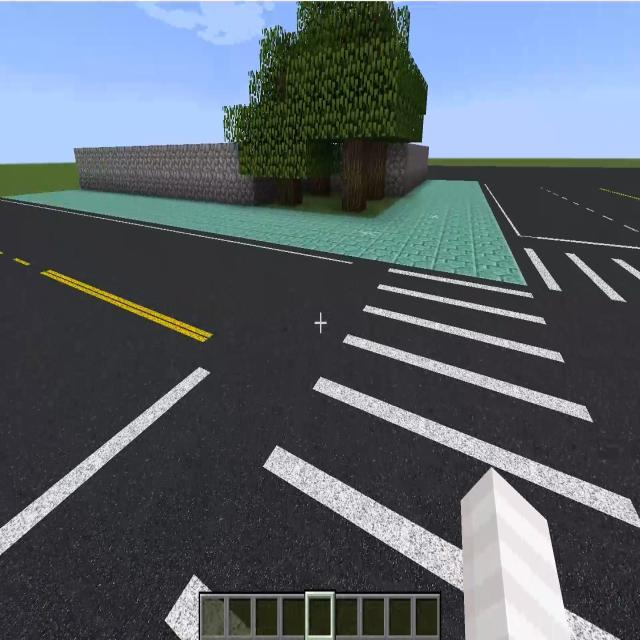crosswalk: (163, 259, 639, 637), (512, 242, 638, 314)
road: (4, 199, 366, 639), (432, 165, 636, 237), (548, 303, 634, 467)
sidewalk: (14, 180, 527, 285)
